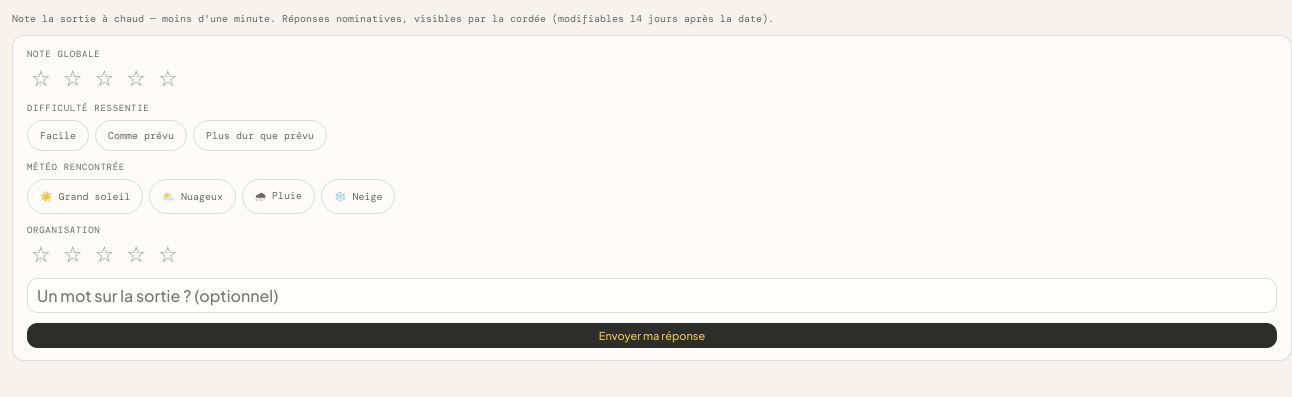
Test: SurveyTab › refuse un envoi incomplet avec une erreur à l’écran
Click the button "Envoyer ma réponse" at (652, 336), box [27,323,1277,348]
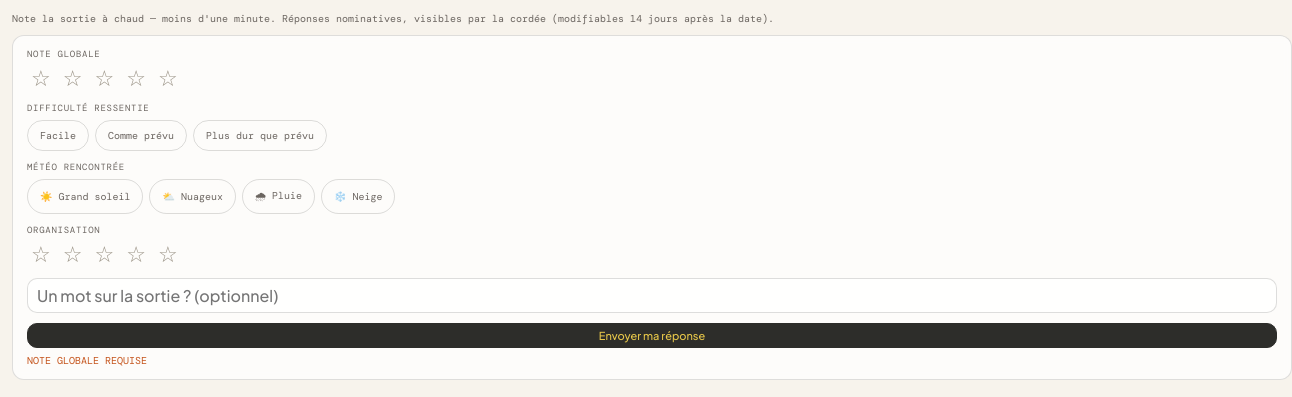
Now the message reads "NOTE GLOBALE REQUISE", box [27,354,147,367]
